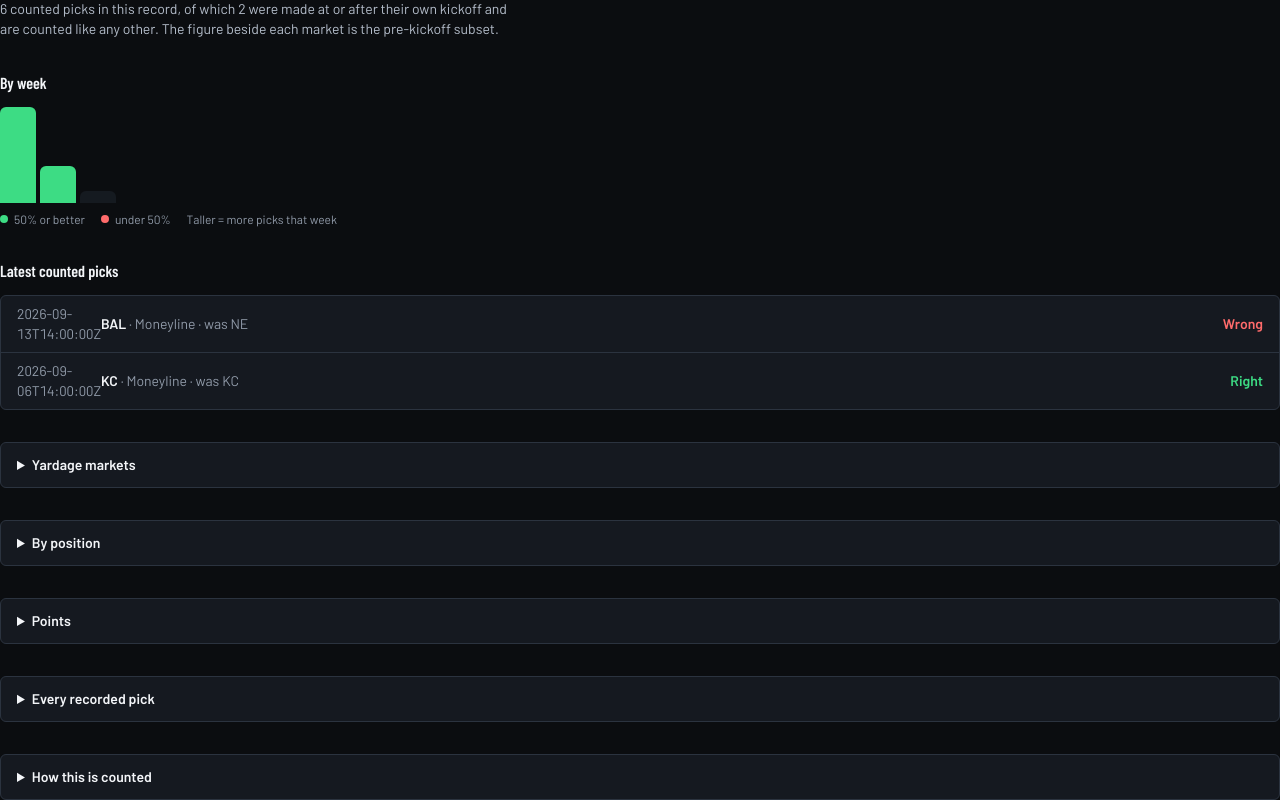
it: restored prop blocks › yardage markets render the fixture's MAE per market
(page scrolled)
What coordinates should you click on to do the following:
click the heading "Yardage markets"
I would click on:
 (84, 464)
Its box is [32, 456, 136, 473].
(page scrolled)
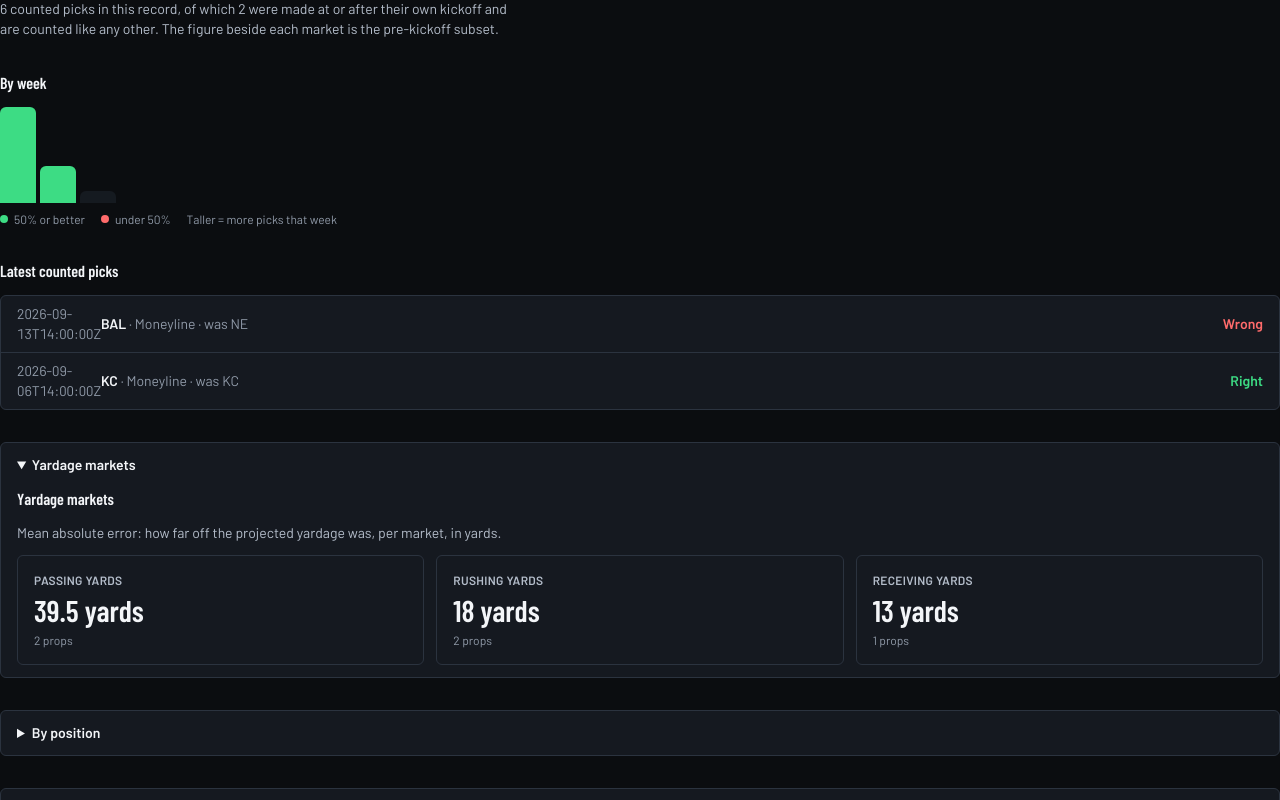
Check: the text "39.5 yards" is shown, box [34, 592, 144, 628]
Check: the text "18 yards" is shown, box [453, 592, 540, 628]
Check: the text "13 yards" is shown, box [873, 592, 959, 628]
